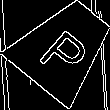P_NE: (33, 16, 95, 79)
